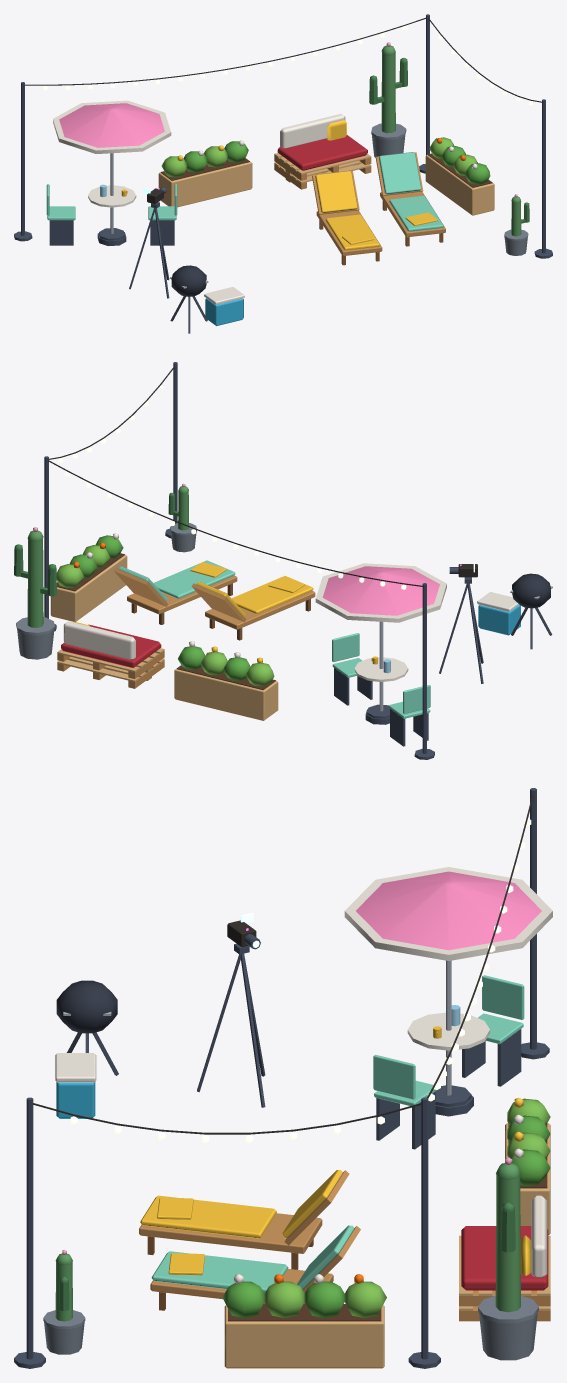
Rendered from einrichtung_dach.glb.
3 views of the same model, one above another, from view 1: azimuth 30°, elevation 25°; view 2: azimuth 150°, elevation 25°; view 3: azimuth 270°, elevation 25° (orthographic). The views are drawn at different scales.
Parts seen in each view (by area): view 1: einrichtung_dach; view 2: einrichtung_dach; view 3: einrichtung_dach.
Boxes of the visible parts, left/top/right/bottom form: einrichtung_dach: left=14, top=14, right=552, bottom=333; einrichtung_dach: left=14, top=362, right=552, bottom=759; einrichtung_dach: left=14, top=788, right=552, bottom=1368.
Size of the model in its own units: 6.69 by 2.55 by 4.71.
